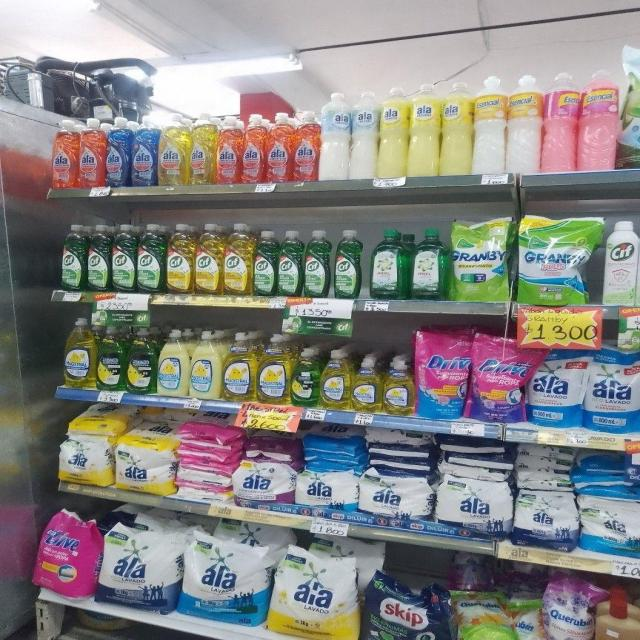ala_conc_amarillo: (159, 112, 189, 186), (190, 110, 216, 185)
ala_conc_azul: (131, 115, 158, 186), (106, 117, 130, 187)
ala_conc_rojo: (50, 119, 78, 189), (266, 112, 293, 182), (79, 118, 105, 188), (217, 114, 242, 184), (294, 110, 318, 181), (242, 113, 265, 183)
ala_crem_amarillo: (441, 81, 472, 175), (409, 83, 440, 176), (379, 86, 408, 178)
ala_crem_blanco: (320, 91, 350, 180), (351, 90, 377, 179)
cif_conc_bot_amarilla: (224, 222, 252, 296), (166, 223, 194, 294), (195, 222, 222, 294)
cif_conc_botella_verde: (333, 228, 363, 298), (304, 229, 332, 298), (58, 224, 86, 292), (137, 223, 164, 293), (111, 223, 136, 292), (253, 229, 277, 296), (87, 223, 110, 292), (278, 230, 302, 296)
drive: (416, 326, 468, 419)
magistral_con_amarillo: (62, 317, 96, 389), (257, 333, 290, 404), (223, 332, 256, 402), (384, 358, 416, 416), (321, 349, 350, 410), (351, 357, 382, 412)
magistral_con_crema: (190, 329, 221, 399), (157, 328, 188, 397)
magistral_con_verde: (126, 327, 156, 394), (96, 326, 125, 391), (292, 346, 319, 406)
